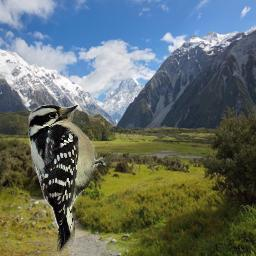Woodpecker: (26, 101, 118, 252)
